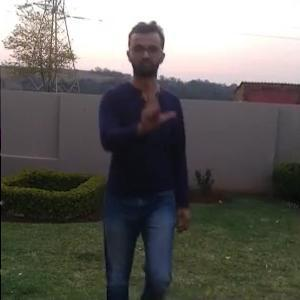land_hand: (131, 73, 180, 136)
